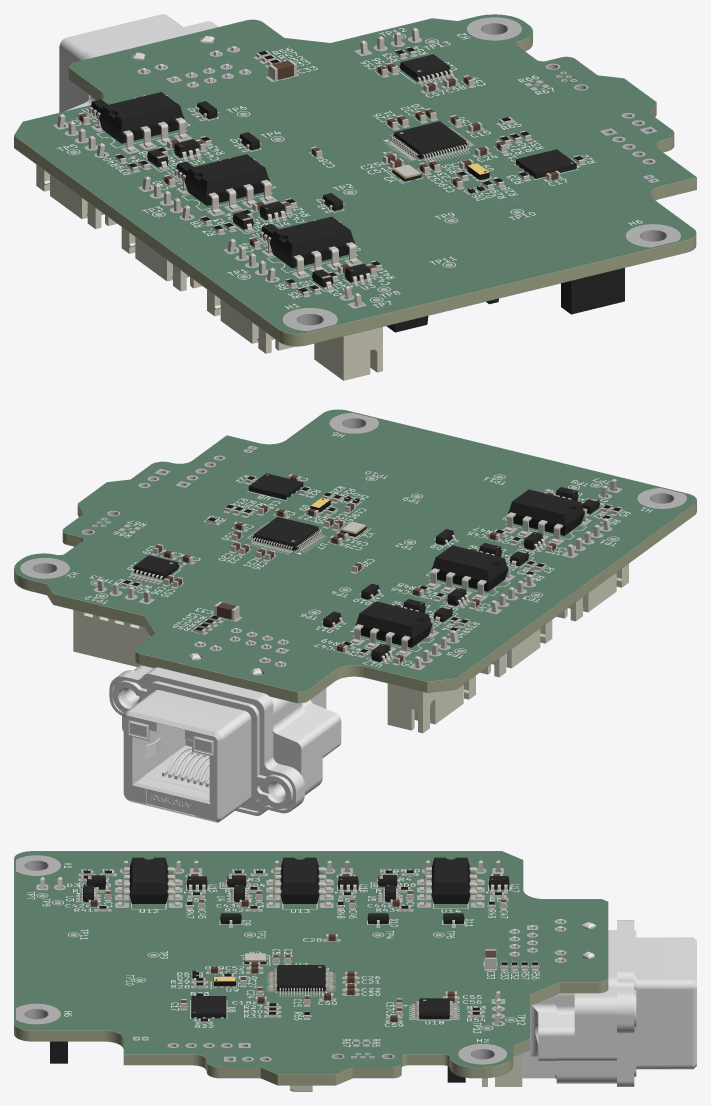
File: Scouter_BaseBoard.glb
3 renders of one model, top to bottom at view 1: azimuth 30°, elevation 25°; view 2: azimuth 150°, elevation 25°; view 3: azimuth 270°, elevation 25°, orthographic. The views are drawn at different scales.
Parts seen in each view (by area): view 1: =>[0:1:1:71], =>[0:1:1:73], =>[0:1:1:15] (×3), =>[0:1:1:68], =>[0:1:1:65] (×3), =>[0:1:1:69], =>[0:1:1:41], =>[0:1:1:55], =>[0:1:1:19], =>[0:1:1:45], =>[0:1:1:21], =>[0:1:1:33] (+1 smaller); view 2: =>[0:1:1:71], =>[0:1:1:73], =>[0:1:1:41], =>[0:1:1:15] (×3), =>[0:1:1:68], =>[0:1:1:65] (×3), =>[0:1:1:69], =>[0:1:1:47], =>[0:1:1:19], =>[0:1:1:21], =>[0:1:1:33]; view 3: =>[0:1:1:71], =>[0:1:1:73], =>[0:1:1:41], =>[0:1:1:68], =>[0:1:1:15] (×3), =>[0:1:1:69], =>[0:1:1:19], =>[0:1:1:33], =>[0:1:1:21], =>[0:1:1:47], =>[0:1:1:72], =>[0:1:1:45].
Part boxes in pixels (x1,y1,x2,y2): =>[0:1:1:71]: (14, 14, 696, 333); =>[0:1:1:73]: (14, 15, 696, 346); =>[0:1:1:15] (×3): (95, 92, 358, 276); =>[0:1:1:68]: (53, 17, 680, 331); =>[0:1:1:65] (×3): (36, 114, 294, 353); =>[0:1:1:69]: (56, 28, 642, 309); =>[0:1:1:41]: (59, 14, 247, 112); =>[0:1:1:55]: (314, 285, 382, 380); =>[0:1:1:19]: (387, 121, 473, 162); =>[0:1:1:45]: (561, 268, 624, 314); =>[0:1:1:21]: (516, 149, 576, 178); =>[0:1:1:33]: (396, 54, 454, 85); =>[0:1:1:71]: (14, 409, 696, 691); =>[0:1:1:73]: (14, 410, 696, 702); =>[0:1:1:41]: (109, 628, 341, 822); =>[0:1:1:15] (×3): (352, 489, 588, 654); =>[0:1:1:68]: (20, 413, 686, 669); =>[0:1:1:65] (×3): (387, 518, 628, 733); =>[0:1:1:69]: (66, 432, 652, 667); =>[0:1:1:47]: (73, 579, 150, 666); =>[0:1:1:19]: (247, 517, 324, 553); =>[0:1:1:21]: (248, 473, 303, 499); =>[0:1:1:33]: (129, 555, 182, 583); =>[0:1:1:71]: (14, 851, 608, 1074); =>[0:1:1:73]: (14, 852, 608, 1085); =>[0:1:1:41]: (513, 919, 696, 1086); =>[0:1:1:68]: (16, 855, 566, 1064); =>[0:1:1:15] (×3): (118, 857, 481, 906); =>[0:1:1:69]: (27, 863, 539, 1046); =>[0:1:1:19]: (269, 965, 332, 995); =>[0:1:1:33]: (412, 998, 456, 1019); =>[0:1:1:21]: (191, 996, 226, 1018); =>[0:1:1:47]: (482, 991, 522, 1086); =>[0:1:1:72]: (14, 990, 607, 1085); =>[0:1:1:45]: (50, 1041, 67, 1063).
Size of the model in its own units: 0.0752 by 0.0225 by 0.0972.
